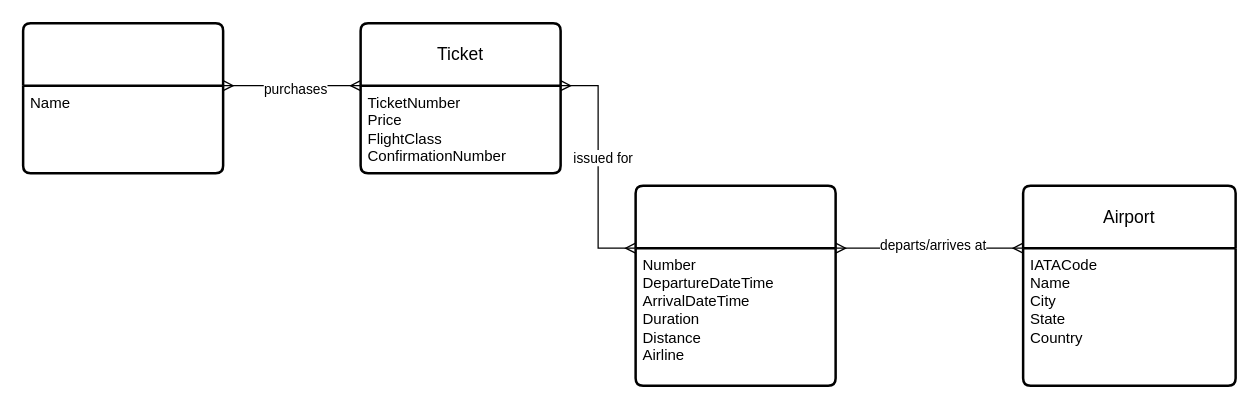
This 1258x408 diagram has some shape labels left out. The shapes that lost their labels are listed below. From the top down, each one's box as (x1, y1, x2, y2) in pixels, then its label:
(21, 21, 224, 174): Passenger
(634, 184, 836, 386): Flight
